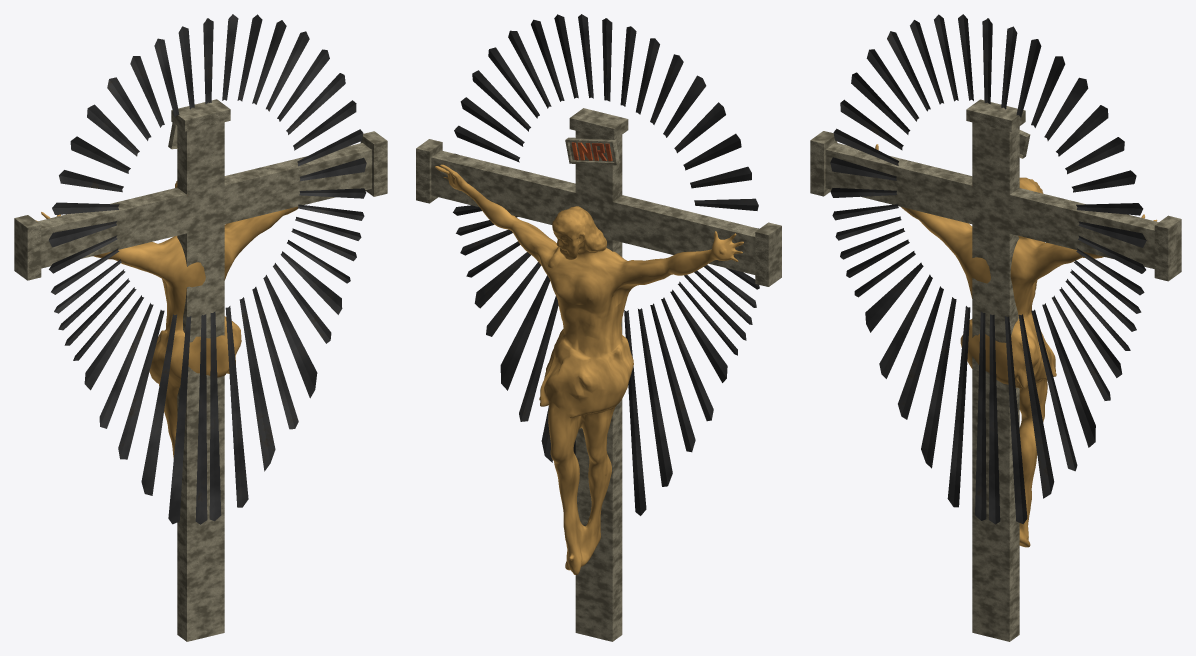
Rendered from YISUS.fbx.
The picture shows the model from 3 angles, left to right: view 1: azimuth 30°, elevation 25°; view 2: azimuth 150°, elevation 25°; view 3: azimuth 330°, elevation 25°; orthographic projection.
Visible parts, largest first — view 1: low 7000.002; view 2: low 7000.002; view 3: low 7000.002.
Part boxes in pixels (x1,y1,x2,y2): low 7000.002: (14, 14, 387, 641); low 7000.002: (416, 14, 781, 641); low 7000.002: (810, 14, 1181, 641).
Size of the model in its own units: 350 by 577 by 68.23.
